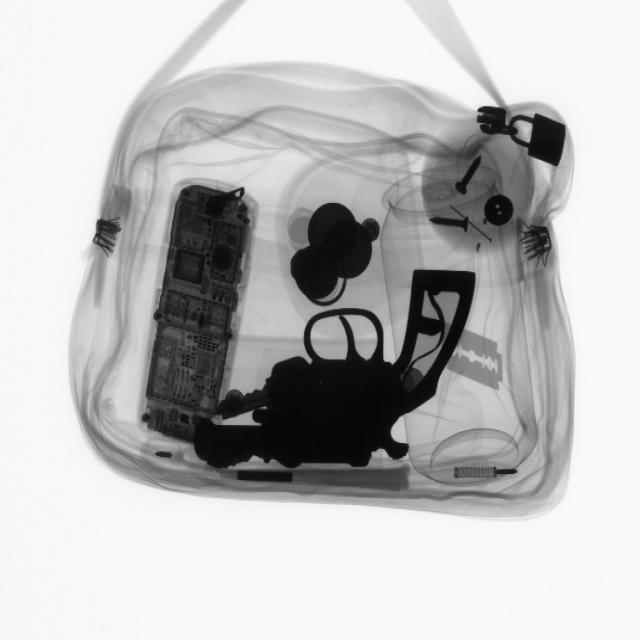BLADE: (441, 325, 506, 393)
GUN: (193, 260, 474, 469)
SCREW: (449, 145, 492, 203), (424, 207, 480, 243)
